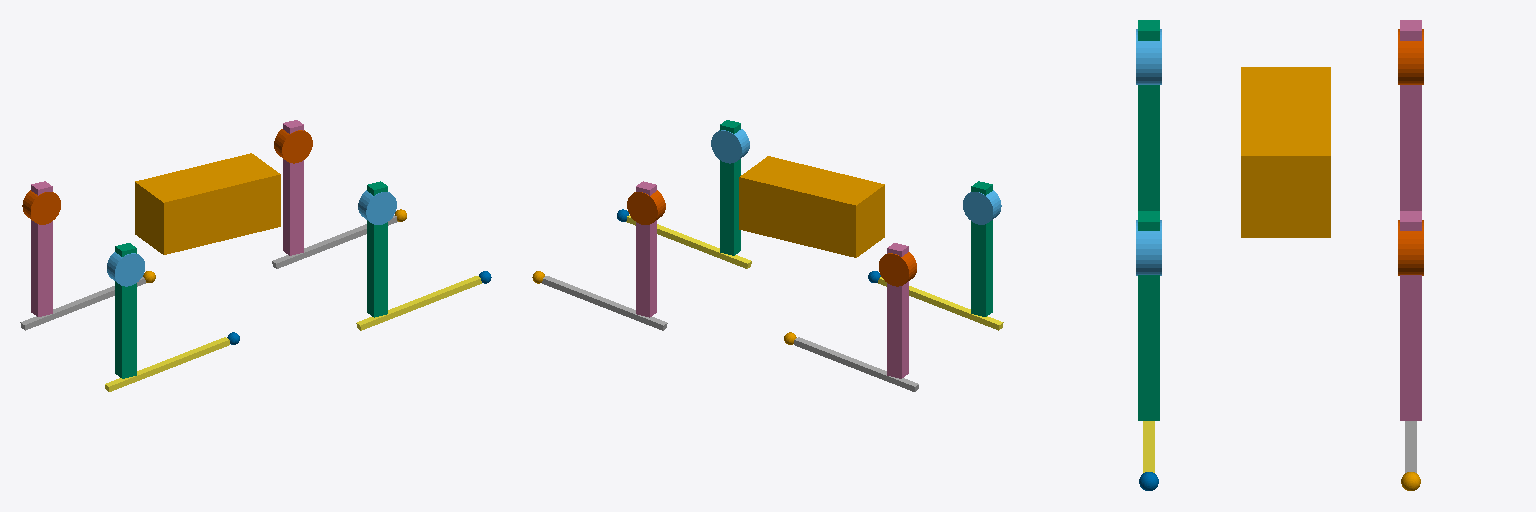
The robot description file, URDF, robot "arclabdog":
<?xml version="1.0" ?>
<robot name="arclabdog" xmlns:xacro="http://www.ros.org/wiki/xacro">
  <link name="trunk">
    <visual>
      <origin rpy="0 0 0" xyz="0 0 0"/>
      <geometry>
        <box size="0.35 0.15 0.15"/>
      </geometry>
    </visual>
    <collision>
      <origin rpy="0 0 0" xyz="0 0 0"/>
      <geometry>
        <box size="0.7 0.3 0.15"/>
      </geometry>
    </collision>
    <inertial>
      <origin xyz="0 0 0" rpy="0 0 0" />
      <mass value="2.0" />
      <inertia ixx="0.08" ixy="0" ixz="0" iyy="0.015" iyz="0" izz="0.022" />
    </inertial>
  </link>
  <joint name="FR_hip_joint" type="revolute">
    <origin rpy="0 0 0" xyz="0.376 -0.1065 0"/>
    <parent link="trunk"/>
    <child link="FR_hip"/>
    <axis xyz="1 0 0"/>
    <dynamics damping="0" friction="0"/>
    <limit effort="44.4" lower="-1.2217304764" upper="1.2217304764" velocity="40"/>
  </joint>
  <link name="FR_hip">
    <visual>
      <origin rpy="1.57079632679 0 0" xyz="0 -0.1215 0"/>
      <geometry>
        <cylinder length="0.0418" radius="0.046"/>
      </geometry>
    </visual>
    <collision>
      <origin rpy="1.57079632679 0 0" xyz="0 -0.1215 0"/>
      <geometry>
        <cylinder length="0.0418" radius="0.046"/>
      </geometry>
    </collision>
    <inertial>
      <origin rpy="0 0 0" xyz="-0.022 -0.015 0"/>
      <mass value="1.993"/>
      <inertia ixx="0.002" ixy="0" ixz="0" iyy="0.004" iyz="0" izz="0.005"/>
    </inertial>
  </link>
  <joint name="FR_thigh_joint" type="revolute">
    <origin rpy="0 0 0" xyz="0 -0.1215 0"/>
    <parent link="FR_hip"/>
    <child link="FR_thigh"/>
    <axis xyz="0 1 0"/>
    <dynamics damping="0" friction="0"/>
    <limit effort="44.4" velocity="40"/>
  </joint>
  <link name="FR_thigh">
    <visual>
      <origin rpy="0 1.57079632679 0" xyz="0 0 -0.125"/>
      <geometry>
        <box size="0.3645 0.0374 0.043"/>
      </geometry>
    </visual>
    <collision>
      <origin rpy="0 1.57079632679 0" xyz="0 0 -0.125"/>
      <geometry>
        <box size="0.3645 0.0374 0.043"/>
      </geometry>
    </collision>
    <inertial>
      <origin rpy="0 0 0" xyz="-0.005 0.003 -0.048"/>
      <mass value="0.639"/>
      <inertia ixx="0.005" ixy="0" ixz="0" iyy="0.005" iyz="0" izz="0"/>
    </inertial>
  </link>
  <joint name="FR_calf_joint" type="revolute">
    <origin rpy="0 0 0" xyz="0 0 -0.3245"/>
    <parent link="FR_thigh"/>
    <child link="FR_calf"/>
    <axis xyz="0 1 0"/>
    <dynamics damping="0" friction="0"/>
    <limit effort="44.4" lower="-2.77507351067" upper="-0.645771823238" velocity="40"/>
  </joint>
  <link name="FR_calf">
    <visual>
      <origin rpy="0 1.57079632679 0" xyz="0 0 -0.125"/>
      <geometry>
        <box size="0.3645 0.0208 0.016"/>
      </geometry>
    </visual>
    <collision>
      <origin rpy="0 1.57079632679 0" xyz="0 0 -0.125"/>
      <geometry>
        <box size="0.3645 0.0208 0.016"/>
      </geometry>
    </collision>
    <inertial>
      <origin rpy="0 0 0" xyz="0.002 0 -0.142"/>
      <mass value="0.207"/>
      <inertia ixx="0.006" ixy="0" ixz="0" iyy="0.006" iyz="0" izz="0"/>
    </inertial>
  </link>
  <joint name="FR_foot_fixed" type="fixed" dont_collapse="true">
    <origin rpy="0 0 0" xyz="0 0 -0.3245"/>
    <parent link="FR_calf"/>
    <child link="FR_foot"/>
  </joint>
  <link name="FR_foot">
    <visual>
      <origin rpy="0 0 0" xyz="0 0 0"/>
      <geometry>
        <sphere radius="0.0165"/>
      </geometry>
      <material name="green"/>
    </visual>
    <collision>
      <origin rpy="0 0 0" xyz="0 0 0"/>
      <geometry>
        <sphere radius="0.0165"/>
      </geometry>
    </collision>
    <inertial>
      <mass value="0.06"/>
      <inertia ixx="0" ixy="0" ixz="0" iyy="0" iyz="0" izz="0"/>
    </inertial>
  </link>
  <joint name="FL_hip_joint" type="revolute">
    <origin rpy="0 0 0" xyz="0.376 0.1065 0"/>
    <parent link="trunk"/>
    <child link="FL_hip"/>
    <axis xyz="1 0 0"/>
    <dynamics damping="0" friction="0"/>
    <limit effort="44.4" lower="-1.2217304764" upper="1.2217304764" velocity="40"/>
  </joint>
  <link name="FL_hip">
    <visual>
      <origin rpy="1.57079632679 0 0" xyz="0 0.1015 0"/>
      <geometry>
        <cylinder length="0.0418" radius="0.046"/>
      </geometry>
    </visual>
    <collision>
      <origin rpy="1.57079632679 0 0" xyz="0 0.1015 0"/>
      <geometry>
        <cylinder length="0.0418" radius="0.046"/>
      </geometry>
    </collision>
    <inertial>
      <origin rpy="0 0 0" xyz="-0.022 0.015 0"/>
      <mass value="1.993"/>
      <inertia ixx="0.002" ixy="0" ixz="0" iyy="0.004" iyz="0" izz="0.005"/>
    </inertial>
  </link>
  <joint name="FL_thigh_joint" type="revolute">
    <origin rpy="0 0 0" xyz="0 0.1015 0"/>
    <parent link="FL_hip"/>
    <child link="FL_thigh"/>
    <axis xyz="0 1 0"/>
    <dynamics damping="0" friction="0"/>
    <limit effort="44.4" velocity="40"/>
  </joint>
  <link name="FL_thigh">
    <visual>
      <origin rpy="0 1.57079632679 0" xyz="0 0 -0.125"/>
      <geometry>
        <box size="0.3645 0.0374 0.043"/>
      </geometry>
    </visual>
    <collision>
      <origin rpy="0 1.57079632679 0" xyz="0 0 -0.125"/>
      <geometry>
        <box size="0.3645 0.0374 0.043"/>
      </geometry>
    </collision>
    <inertial>
      <origin rpy="0 0 0" xyz="-0.005 -0.003 -0.048"/>
      <mass value="0.639"/>
      <inertia ixx="0.005" ixy="0" ixz="0" iyy="0.005" iyz="0" izz="0"/>
    </inertial>
  </link>
  <joint name="FL_calf_joint" type="revolute">
    <origin rpy="0 0 0" xyz="0 0 -0.3245"/>
    <parent link="FL_thigh"/>
    <child link="FL_calf"/>
    <axis xyz="0 1 0"/>
    <dynamics damping="0" friction="0"/>
    <limit effort="44.4" lower="-2.77507351067" upper="-0.645771823238" velocity="40"/>
  </joint>
  <link name="FL_calf">
    <visual>
      <origin rpy="0 1.57079632679 0" xyz="0 0 -0.125"/>
      <geometry>
        <box size="0.3645 0.0208 0.016"/>
      </geometry>
    </visual>
    <collision>
      <origin rpy="0 1.57079632679 0" xyz="0 0 -0.125"/>
      <geometry>
        <box size="0.3645 0.0208 0.016"/>
      </geometry>
    </collision>
    <inertial>
      <origin rpy="0 0 0" xyz="0.002 0 -0.142"/>
      <mass value="0.207"/>
      <inertia ixx="0.006" ixy="0" ixz="0" iyy="0.006" iyz="0" izz="0"/>
    </inertial>
  </link>
  <joint name="FL_foot_fixed" type="fixed" dont_collapse="true">
    <origin rpy="0 0 0" xyz="0 0 -0.3245"/>
    <parent link="FL_calf"/>
    <child link="FL_foot"/>
  </joint>
  <link name="FL_foot">
    <visual>
      <origin rpy="0 0 0" xyz="0 0 0"/>
      <geometry>
        <sphere radius="0.0165"/>
      </geometry>
      <material name="green"/>
    </visual>
    <collision>
      <origin rpy="0 0 0" xyz="0 0 0"/>
      <geometry>
        <sphere radius="0.0165"/>
      </geometry>
    </collision>
    <inertial>
      <mass value="0.06"/>
      <inertia ixx="0" ixy="0" ixz="0" iyy="0" iyz="0" izz="0"/>
    </inertial>
  </link>
  <joint name="RR_hip_joint" type="revolute">
    <origin rpy="0 0 0" xyz="-0.376 -0.1065 0"/>
    <parent link="trunk"/>
    <child link="RR_hip"/>
    <axis xyz="1 0 0"/>
    <dynamics damping="0" friction="0"/>
    <limit effort="44.4" lower="-1.2217304764" upper="1.2217304764" velocity="40"/>
  </joint>
  <link name="RR_hip">
    <visual>
      <origin rpy="1.57079632679 0 0" xyz="0 -0.1215 0"/>
      <geometry>
        <cylinder length="0.0418" radius="0.046"/>
      </geometry>
    </visual>
    <collision>
      <origin rpy="1.57079632679 0 0" xyz="0 -0.1215 0"/>
      <geometry>
        <cylinder length="0.0418" radius="0.046"/>
      </geometry>
    </collision>
    <inertial>
      <origin rpy="0 0 0" xyz="0.022 -0.015 0"/>
      <mass value="1.993"/>
      <inertia ixx="0.002" ixy="0" ixz="0" iyy="0.004" iyz="0" izz="0.005"/>
    </inertial>
  </link>
  <joint name="RR_thigh_joint" type="revolute">
    <origin rpy="0 0 0" xyz="0 -0.1215 0"/>
    <parent link="RR_hip"/>
    <child link="RR_thigh"/>
    <axis xyz="0 1 0"/>
    <dynamics damping="0" friction="0"/>
    <limit effort="44.4" velocity="40"/>
  </joint>
  <link name="RR_thigh">
    <visual>
      <origin rpy="0 1.57079632679 0" xyz="0 0 -0.125"/>
      <geometry>
        <box size="0.3645 0.0374 0.043"/>
      </geometry>
    </visual>
    <collision>
      <origin rpy="0 1.57079632679 0" xyz="0 0 -0.125"/>
      <geometry>
        <box size="0.3645 0.0374 0.043"/>
      </geometry>
    </collision>
    <inertial>
      <origin rpy="0 0 0" xyz="-0.005 0.003 -0.048"/>
      <mass value="0.639"/>
      <inertia ixx="0.005" ixy="0" ixz="0" iyy="0.005" iyz="0" izz="0"/>
    </inertial>
  </link>
  <joint name="RR_calf_joint" type="revolute">
    <origin rpy="0 0 0" xyz="0 0 -0.3245"/>
    <parent link="RR_thigh"/>
    <child link="RR_calf"/>
    <axis xyz="0 1 0"/>
    <dynamics damping="0" friction="0"/>
    <limit effort="44.4" lower="-2.77507351067" upper="-0.645771823238" velocity="40"/>
  </joint>
  <link name="RR_calf">
    <visual>
      <origin rpy="0 1.57079632679 0" xyz="0 0 -0.125"/>
      <geometry>
        <box size="0.3645 0.0208 0.016"/>
      </geometry>
    </visual>
    <collision>
      <origin rpy="0 1.57079632679 0" xyz="0 0 -0.125"/>
      <geometry>
        <box size="0.3645 0.0208 0.016"/>
      </geometry>
    </collision>
    <inertial>
      <origin rpy="0 0 0" xyz="0.002 0 -0.142"/>
      <mass value="0.207"/>
      <inertia ixx="0.006" ixy="0" ixz="0" iyy="0.006" iyz="0" izz="0"/>
    </inertial>
  </link>
  <joint name="RR_foot_fixed" type="fixed" dont_collapse="true">
    <origin rpy="0 0 0" xyz="0 0 -0.3245"/>
    <parent link="RR_calf"/>
    <child link="RR_foot"/>
  </joint>
  <link name="RR_foot">
    <visual>
      <origin rpy="0 0 0" xyz="0 0 0"/>
      <geometry>
        <sphere radius="0.0165"/>
      </geometry>
      <material name="green"/>
    </visual>
    <collision>
      <origin rpy="0 0 0" xyz="0 0 0"/>
      <geometry>
        <sphere radius="0.0165"/>
      </geometry>
    </collision>
    <inertial>
      <mass value="0.06"/>
      <inertia ixx="0" ixy="0" ixz="0" iyy="0" iyz="0" izz="0"/>
    </inertial>
  </link>
  <joint name="RL_hip_joint" type="revolute">
    <origin rpy="0 0 0" xyz="-0.376 0.1065 0"/>
    <parent link="trunk"/>
    <child link="RL_hip"/>
    <axis xyz="1 0 0"/>
    <dynamics damping="0" friction="0"/>
    <limit effort="44.4" lower="-1.2217304764" upper="1.2217304764" velocity="40"/>
  </joint>
  <link name="RL_hip">
    <visual>
      <origin rpy="1.57079632679 0 0" xyz="0 0.1015 0"/>
      <geometry>
        <cylinder length="0.0418" radius="0.046"/>
      </geometry>
    </visual>
    <collision>
      <origin rpy="1.57079632679 0 0" xyz="0 0.1015 0"/>
      <geometry>
        <cylinder length="0.0418" radius="0.046"/>
      </geometry>
    </collision>
    <inertial>
      <origin rpy="0 0 0" xyz="0.022 0.015 0"/>
      <mass value="1.993"/>
      <inertia ixx="0.002" ixy="0" ixz="0" iyy="0.004" iyz="0" izz="0.005"/>
    </inertial>
  </link>
  <joint name="RL_thigh_joint" type="revolute">
    <origin rpy="0 0 0" xyz="0 0.1015 0"/>
    <parent link="RL_hip"/>
    <child link="RL_thigh"/>
    <axis xyz="0 1 0"/>
    <dynamics damping="0" friction="0"/>
    <limit effort="44.4" velocity="40"/>
  </joint>
  <link name="RL_thigh">
    <visual>
      <origin rpy="0 1.57079632679 0" xyz="0 0 -0.125"/>
      <geometry>
        <box size="0.3645 0.0374 0.043"/>
      </geometry>
    </visual>
    <collision>
      <origin rpy="0 1.57079632679 0" xyz="0 0 -0.125"/>
      <geometry>
        <box size="0.3645 0.0374 0.043"/>
      </geometry>
    </collision>
    <inertial>
      <origin rpy="0 0 0" xyz="-0.005 -0.003 -0.048"/>
      <mass value="0.639"/>
      <inertia ixx="0.005" ixy="0" ixz="0" iyy="0.005" iyz="0" izz="0"/>
    </inertial>
  </link>
  <joint name="RL_calf_joint" type="revolute">
    <origin rpy="0 0 0" xyz="0 0 -0.3245"/>
    <parent link="RL_thigh"/>
    <child link="RL_calf"/>
    <axis xyz="0 1 0"/>
    <dynamics damping="0" friction="0"/>
    <limit effort="44.4" lower="-2.77507351067" upper="-0.645771823238" velocity="40"/>
  </joint>
  <link name="RL_calf">
    <visual>
      <origin rpy="0 1.57079632679 0" xyz="0 0 -0.125"/>
      <geometry>
        <box size="0.3645 0.0208 0.016"/>
      </geometry>
    </visual>
    <collision>
      <origin rpy="0 1.57079632679 0" xyz="0 0 -0.125"/>
      <geometry>
        <box size="0.3645 0.0208 0.016"/>
      </geometry>
    </collision>
    <inertial>
      <origin rpy="0 0 0" xyz="0.002 0 -0.142"/>
      <mass value="0.207"/>
      <inertia ixx="0.006" ixy="0" ixz="0" iyy="0.006" iyz="0" izz="0"/>
    </inertial>
  </link>
  <joint name="RL_foot_fixed" type="fixed" dont_collapse="true">
    <origin rpy="0 0 0" xyz="0 0 -0.3245"/>
    <parent link="RL_calf"/>
    <child link="RL_foot"/>
  </joint>
  <link name="RL_foot">
    <visual>
      <origin rpy="0 0 0" xyz="0 0 0"/>
      <geometry>
        <sphere radius="0.0165"/>
      </geometry>
      <material name="green"/>
    </visual>
    <collision>
      <origin rpy="0 0 0" xyz="0 0 0"/>
      <geometry>
        <sphere radius="0.0165"/>
      </geometry>
    </collision>
    <inertial>
      <mass value="0.06"/>
      <inertia ixx="0" ixy="0" ixz="0" iyy="0" iyz="0" izz="0"/>
    </inertial>
  </link>
</robot>

--- Facts derived from the render (not from the file) ---
The picture shows the robot from 3 angles, left to right: view 1: azimuth 30°, elevation 25°; view 2: azimuth 150°, elevation 25°; view 3: azimuth 270°, elevation 25°; orthographic projection.
Model arclabdog with 17 links and 16 joints (12 revolute, 4 fixed), rooted at trunk, posed joints at zero except 4 at the middle of their limits (FR_calf_joint = -1.71, FL_calf_joint = -1.71, RR_calf_joint = -1.71, RL_calf_joint = -1.71).
Links seen in each view (by area): view 1: trunk, RL_thigh, RR_thigh, FR_thigh, FL_thigh, FR_calf, RR_calf, FR_hip, FL_hip, RR_hip, RL_hip, FL_calf (+1 smaller); view 2: trunk, RR_thigh, RL_thigh, FL_thigh, FR_thigh, FL_calf, RL_calf, FR_hip, FL_hip, RR_hip, RL_hip, FR_calf (+1 smaller); view 3: trunk, FR_thigh, FL_thigh, RR_thigh, RL_thigh, FR_hip, FL_hip, RR_hip, RL_hip, FR_calf, FL_calf.
Boxes of the visible links, x1,y1,x2,y2 form: trunk: (135, 153, 280, 254); RL_thigh: (31, 181, 52, 316); RR_thigh: (115, 243, 136, 378); FR_thigh: (367, 181, 387, 317); FL_thigh: (283, 120, 303, 255); FR_calf: (356, 276, 481, 330); RR_calf: (105, 337, 229, 391); FR_hip: (358, 190, 396, 224); FL_hip: (274, 129, 312, 163); RR_hip: (107, 252, 144, 286); RL_hip: (22, 190, 60, 224); FL_calf: (272, 215, 397, 268); trunk: (739, 156, 884, 257); RR_thigh: (971, 181, 992, 316); RL_thigh: (887, 243, 908, 378); FL_thigh: (636, 181, 656, 317); FR_thigh: (720, 120, 740, 255); FL_calf: (542, 276, 667, 330); RL_calf: (794, 337, 918, 391); FR_hip: (711, 129, 749, 163); FL_hip: (627, 190, 665, 224); RR_hip: (963, 190, 1001, 224); RL_hip: (879, 252, 916, 286); FR_calf: (626, 215, 751, 268); trunk: (1241, 67, 1330, 237); FR_thigh: (1138, 211, 1159, 420); FL_thigh: (1400, 211, 1421, 420); RR_thigh: (1138, 20, 1159, 210); RL_thigh: (1400, 20, 1421, 210); FR_hip: (1136, 220, 1161, 275); FL_hip: (1398, 220, 1423, 275); RR_hip: (1136, 29, 1161, 84); RL_hip: (1398, 29, 1423, 84); FR_calf: (1143, 421, 1154, 472); FL_calf: (1405, 421, 1416, 472).
Size in the robot's own frame: 1.15 by 0.4778 by 0.4154 metres.
Geometry: primitives only (box / cylinder / sphere), no mesh files.